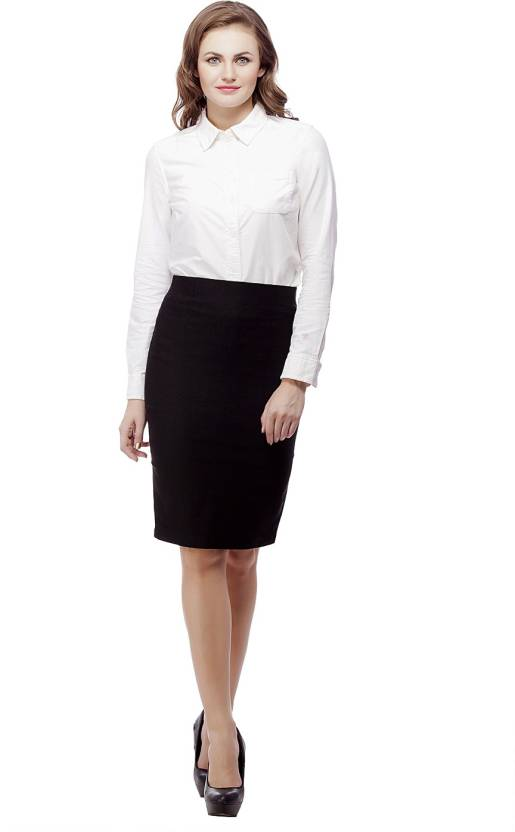F_shirt: (125, 105, 381, 286)
F_tailored skirt: (136, 269, 312, 553)
